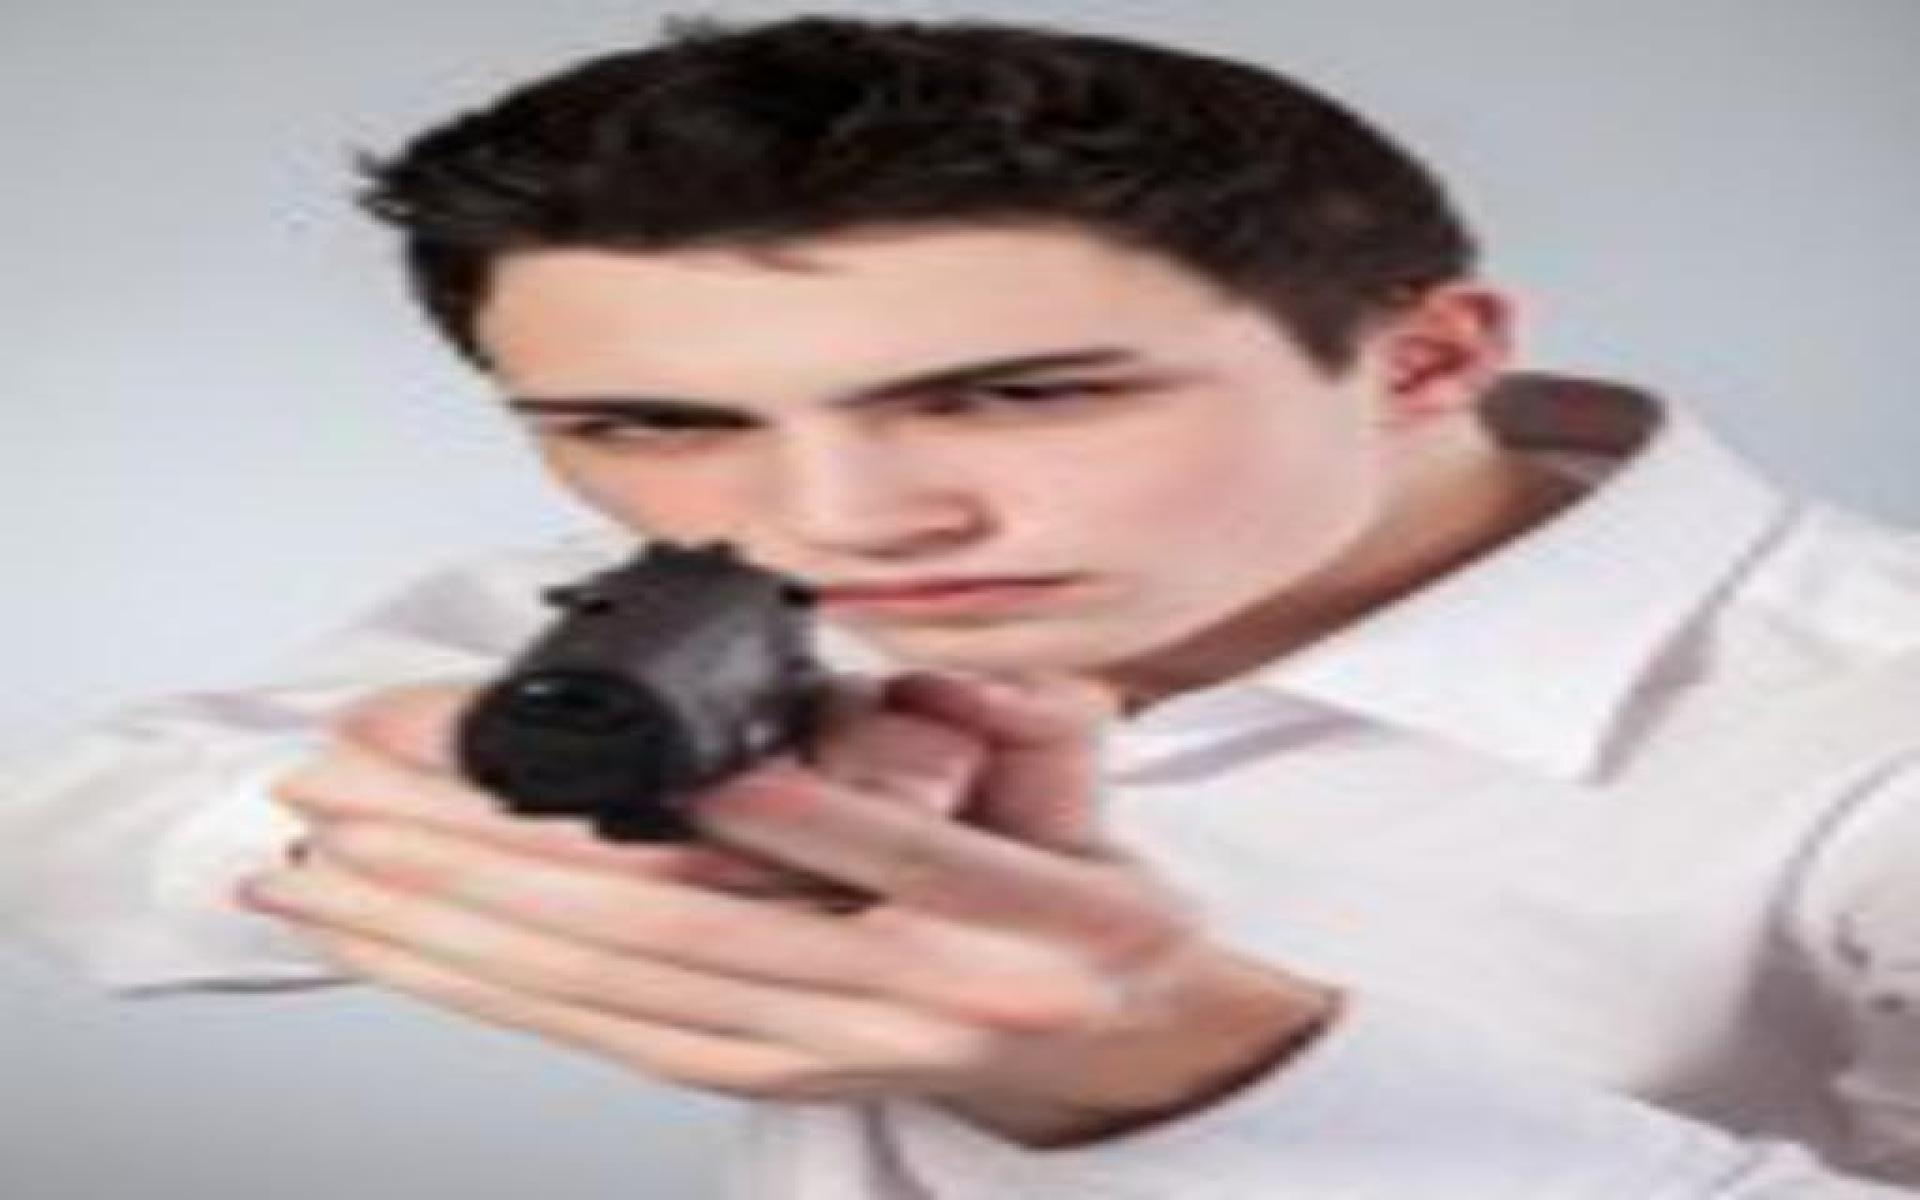gun: (420, 510, 845, 881)
